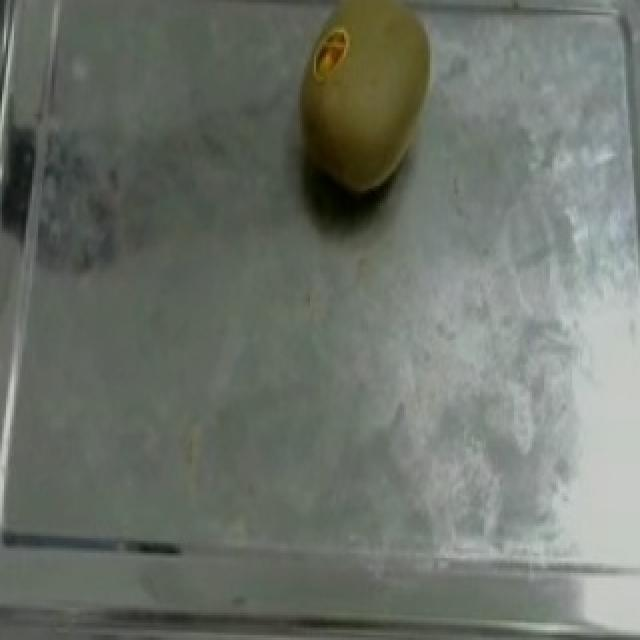Fruit: (284, 0, 446, 206)
